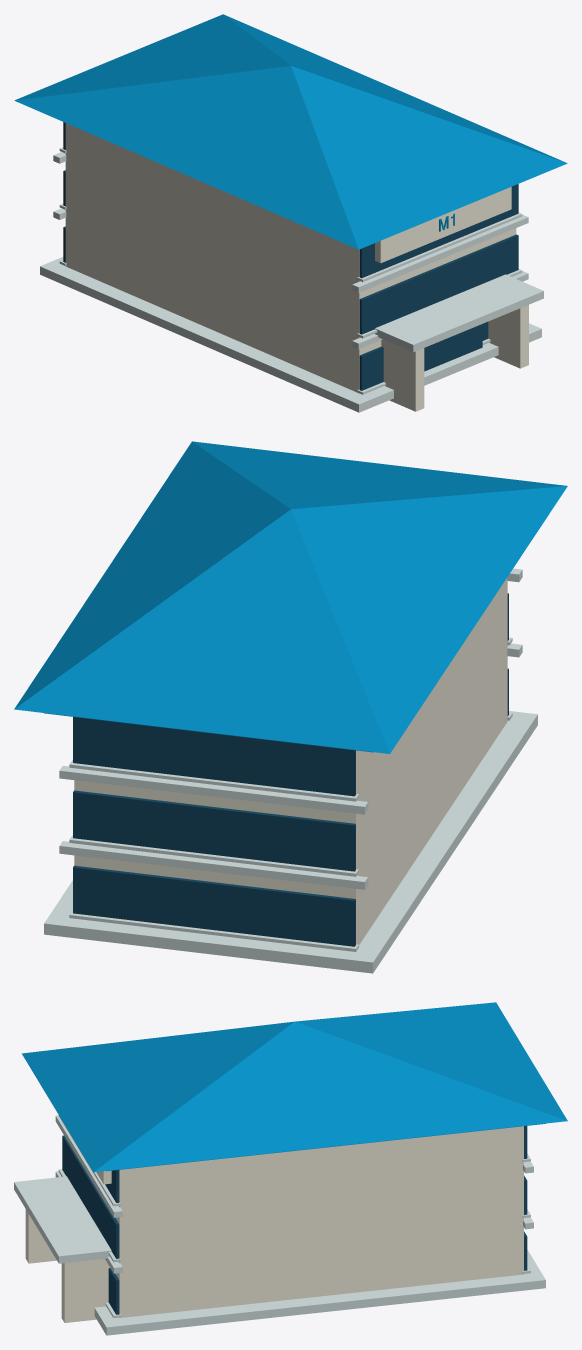
The model's file is mahad-m1.glb.
3 renders of one model, top to bottom at view 1: azimuth 30°, elevation 25°; view 2: azimuth 150°, elevation 25°; view 3: azimuth 270°, elevation 25°, orthographic. The views are drawn at different scales.
Visible parts, largest first — view 1: Mahad_M1_blue, Mahad_M1_ivory, Mahad_M1_trim, Mahad_M1_glass; view 2: Mahad_M1_blue, Mahad_M1_glass, Mahad_M1_ivory, Mahad_M1_trim; view 3: Mahad_M1_ivory, Mahad_M1_blue, Mahad_M1_trim, Mahad_M1_glass.
Boxes of the visible parts, box(x1,y1,x2,y2) form: Mahad_M1_blue: box(14, 14, 567, 249); Mahad_M1_ivory: box(65, 123, 528, 411); Mahad_M1_trim: box(40, 147, 543, 412); Mahad_M1_glass: box(63, 122, 518, 390); Mahad_M1_blue: box(14, 441, 567, 753); Mahad_M1_glass: box(73, 593, 508, 946); Mahad_M1_ivory: box(74, 578, 507, 944); Mahad_M1_trim: box(44, 568, 537, 973); Mahad_M1_ivory: box(25, 1126, 523, 1322); Mahad_M1_blue: box(22, 1002, 567, 1172); Mahad_M1_trim: box(14, 1115, 545, 1335); Mahad_M1_glass: box(62, 1126, 527, 1314).
Bounding box in the file's own units: 22.18 × 14.75 × 30.54.
